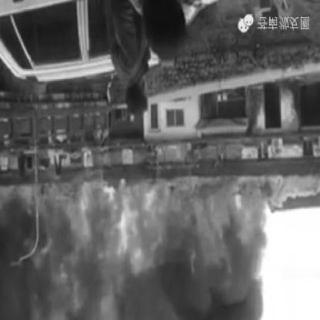Fire: (161, 143, 189, 167), (120, 144, 138, 166), (80, 153, 93, 177), (0, 158, 11, 178)
Smoke: (123, 229, 271, 317), (3, 210, 91, 319)
